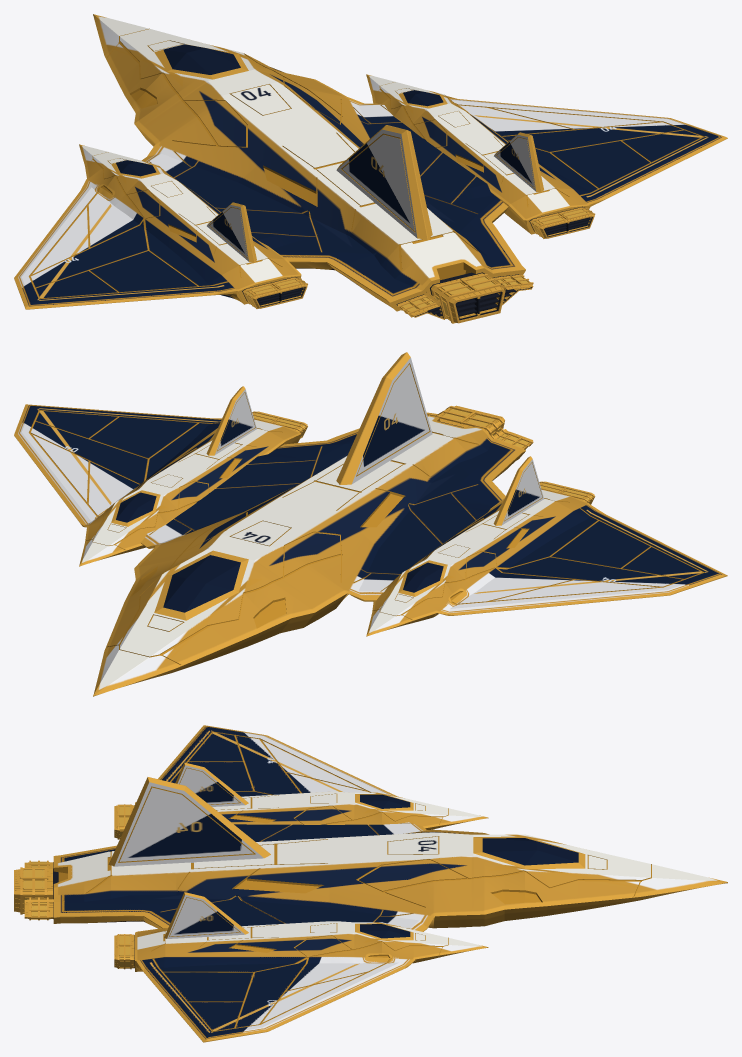
The model's file is royal-white.glb.
The picture shows the model from 3 angles, top to bottom: view 1: azimuth 30°, elevation 25°; view 2: azimuth 150°, elevation 25°; view 3: azimuth 270°, elevation 25°; orthographic projection. The views are drawn at different scales.
Parts seen in each view (by area): view 1: CENTER_AF04_BODY_CENTER, SIDE_L_AF04_BODY_CENTER, SIDE_R_AF04_BODY_CENTER, TAIL41_CENTER, CENTER_AF04_CANOPY_0, TAIL41_SIDE_R, TAIL41_SIDE_L, CENTER_AF04_CENTER_CANOPY_FRAME_USER; view 2: CENTER_AF04_BODY_CENTER, SIDE_L_AF04_BODY_CENTER, SIDE_R_AF04_BODY_CENTER, TAIL41_CENTER, CENTER_AF04_CANOPY_0, TAIL41_SIDE_L, TAIL41_SIDE_R, CENTER_AF04_CENTER_CANOPY_FRAME_USER, SIDE_L_AF04_CANOPY_0, SIDE_R_AF04_CANOPY_0; view 3: CENTER_AF04_BODY_CENTER, SIDE_R_AF04_BODY_CENTER, SIDE_L_AF04_BODY_CENTER, TAIL41_CENTER, TAIL41_SIDE_R, CENTER_AF04_CANOPY_0, TAIL41_SIDE_L, CENTER_AF04_CENTER_CANOPY_FRAME_USER, SIDE_L_AF04_CANOPY_0, SIDE_R_AF04_CANOPY_0.
Boxes of the visible parts, bbox=[...] form: CENTER_AF04_BODY_CENTER: bbox=[93, 14, 525, 311]; SIDE_L_AF04_BODY_CENTER: bbox=[14, 144, 301, 309]; SIDE_R_AF04_BODY_CENTER: bbox=[366, 74, 727, 234]; TAIL41_CENTER: bbox=[336, 125, 432, 240]; CENTER_AF04_CANOPY_0: bbox=[163, 44, 240, 74]; TAIL41_SIDE_R: bbox=[494, 132, 543, 192]; TAIL41_SIDE_L: bbox=[207, 202, 256, 262]; CENTER_AF04_CENTER_CANOPY_FRAME_USER: bbox=[154, 44, 248, 79]; CENTER_AF04_BODY_CENTER: bbox=[93, 415, 525, 696]; SIDE_L_AF04_BODY_CENTER: bbox=[366, 489, 727, 636]; SIDE_R_AF04_BODY_CENTER: bbox=[14, 404, 301, 566]; TAIL41_CENTER: bbox=[336, 352, 432, 484]; CENTER_AF04_CANOPY_0: bbox=[163, 555, 240, 612]; TAIL41_SIDE_L: bbox=[493, 456, 543, 525]; TAIL41_SIDE_R: bbox=[206, 386, 256, 455]; CENTER_AF04_CENTER_CANOPY_FRAME_USER: bbox=[154, 550, 248, 620]; SIDE_L_AF04_CANOPY_0: bbox=[403, 562, 443, 592]; SIDE_R_AF04_CANOPY_0: bbox=[116, 492, 156, 522]; CENTER_AF04_BODY_CENTER: bbox=[53, 822, 727, 931]; SIDE_R_AF04_BODY_CENTER: bbox=[135, 921, 488, 1042]; SIDE_L_AF04_BODY_CENTER: bbox=[135, 725, 488, 829]; TAIL41_CENTER: bbox=[108, 777, 270, 866]; TAIL41_SIDE_R: bbox=[164, 892, 248, 938]; CENTER_AF04_CANOPY_0: bbox=[482, 838, 578, 865]; TAIL41_SIDE_L: bbox=[175, 762, 248, 806]; CENTER_AF04_CENTER_CANOPY_FRAME_USER: bbox=[473, 836, 585, 868]; SIDE_L_AF04_CANOPY_0: bbox=[360, 794, 410, 808]; SIDE_R_AF04_CANOPY_0: bbox=[360, 924, 410, 938].
Size of the model in its own units: 14.09 by 2.83 by 13.42.
Materials: 14 (4 with a texture image).
